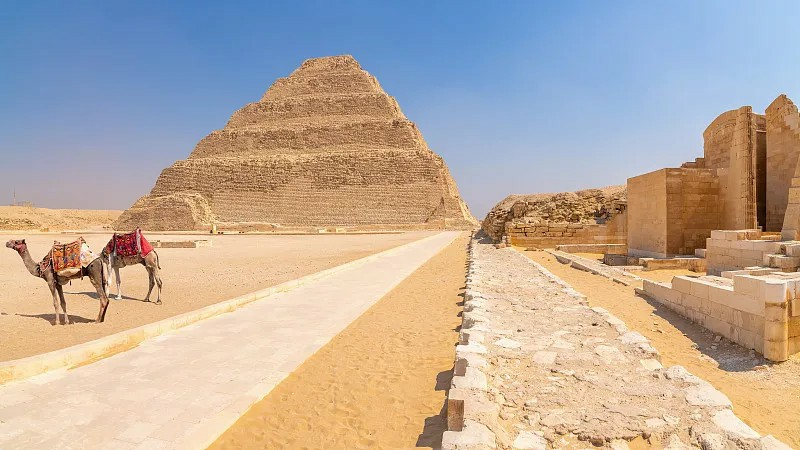Pyramid: (116, 55, 476, 234)
